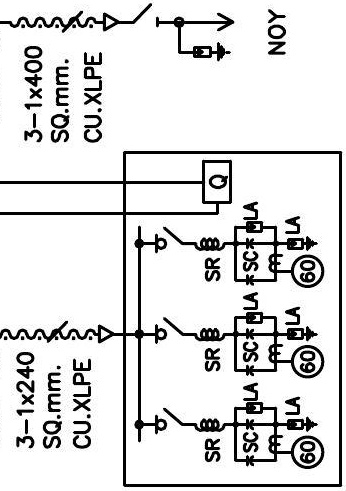22_cap_bank: (122, 150, 343, 488)
22_ds_la_out: (133, 2, 235, 62)
Q: (202, 159, 233, 205)
terminator_single: (97, 323, 115, 344), (102, 12, 120, 32)
